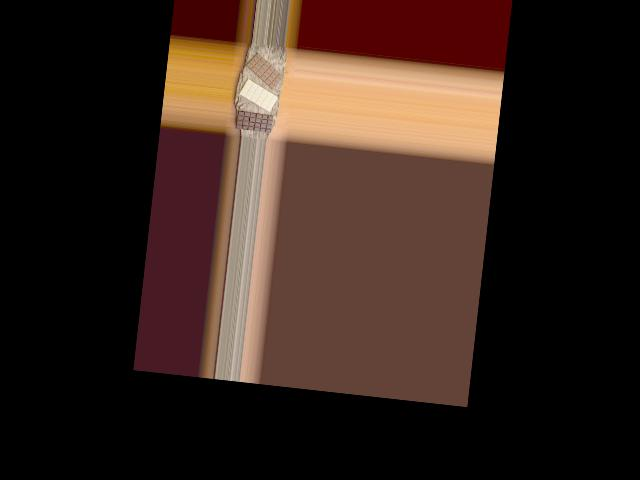chocolate: (234, 110, 273, 133)
